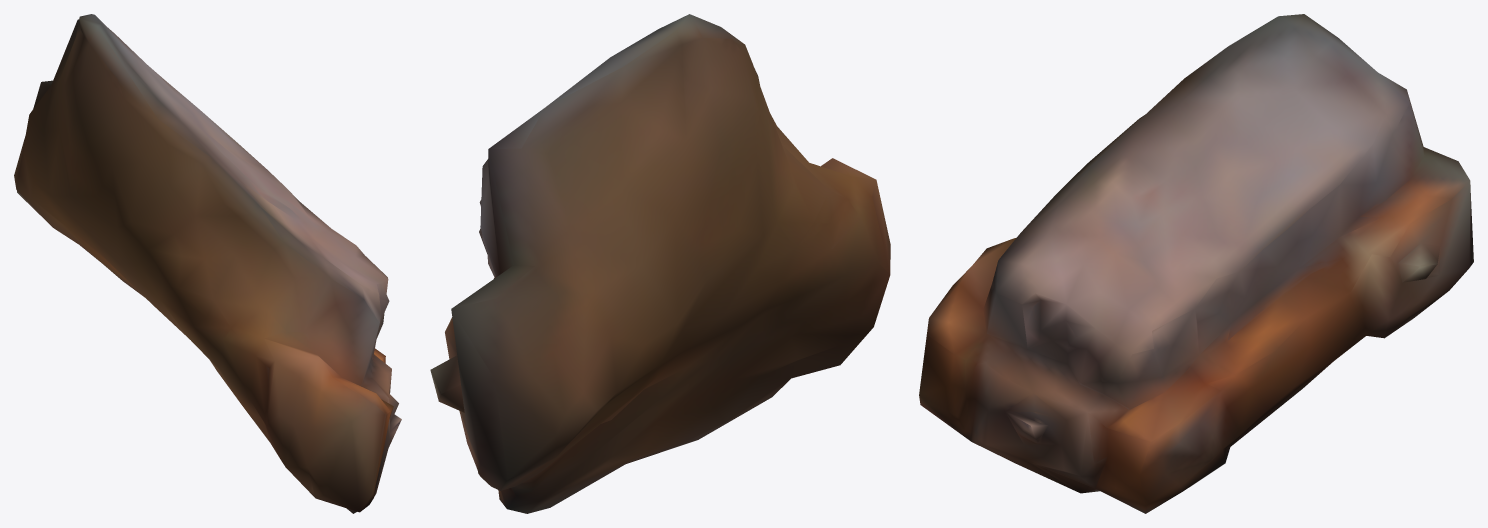
Rendered from whetstone.glb.
3 views of the same model, side by side, from view 1: azimuth 30°, elevation 25°; view 2: azimuth 150°, elevation 25°; view 3: azimuth 270°, elevation 25° (orthographic). The views are drawn at different scales.
Visible parts, largest first — view 1: model; view 2: model; view 3: model.
Boxes of the visible parts, bbox=[...] form: model: bbox=[14, 14, 401, 513]; model: bbox=[430, 14, 890, 513]; model: bbox=[919, 14, 1473, 513].
Size of the model in its own units: 0.1947 by 0.3263 by 0.3988.
Materials: 1 (1 with a texture image).
